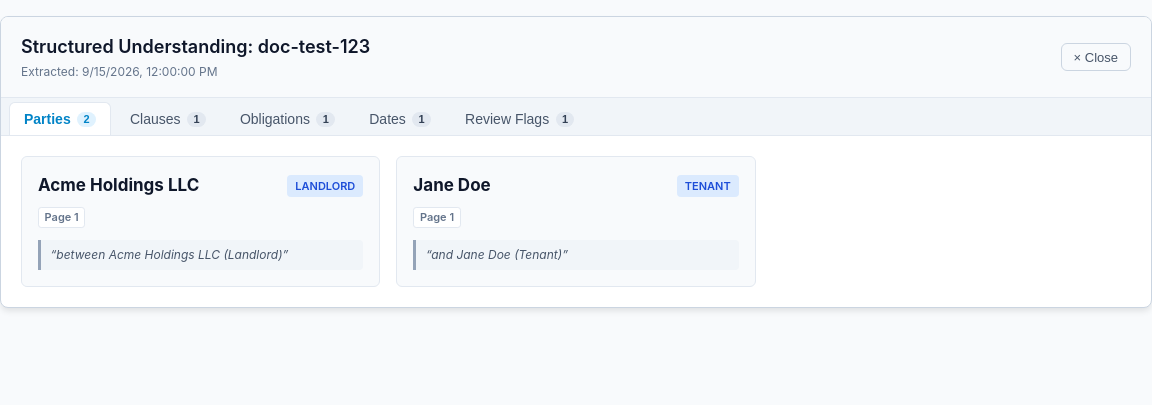
Scenario: DocumentUnderstandingView Component › switches tabs to Obligations and displays duties and deadlines
Click the tab "Obligations 1": x=288, y=119 [225, 102, 350, 135]
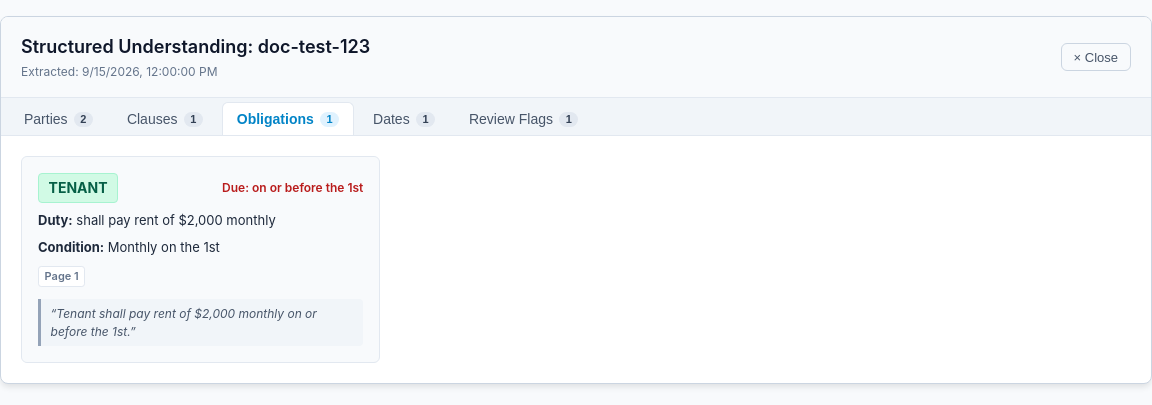
Expected: the text "shall pay rent of $2,000 monthly" is shown, [76, 212, 276, 228]
Expected: the text "Due: on or before the 1st" is shown, [222, 179, 363, 197]
